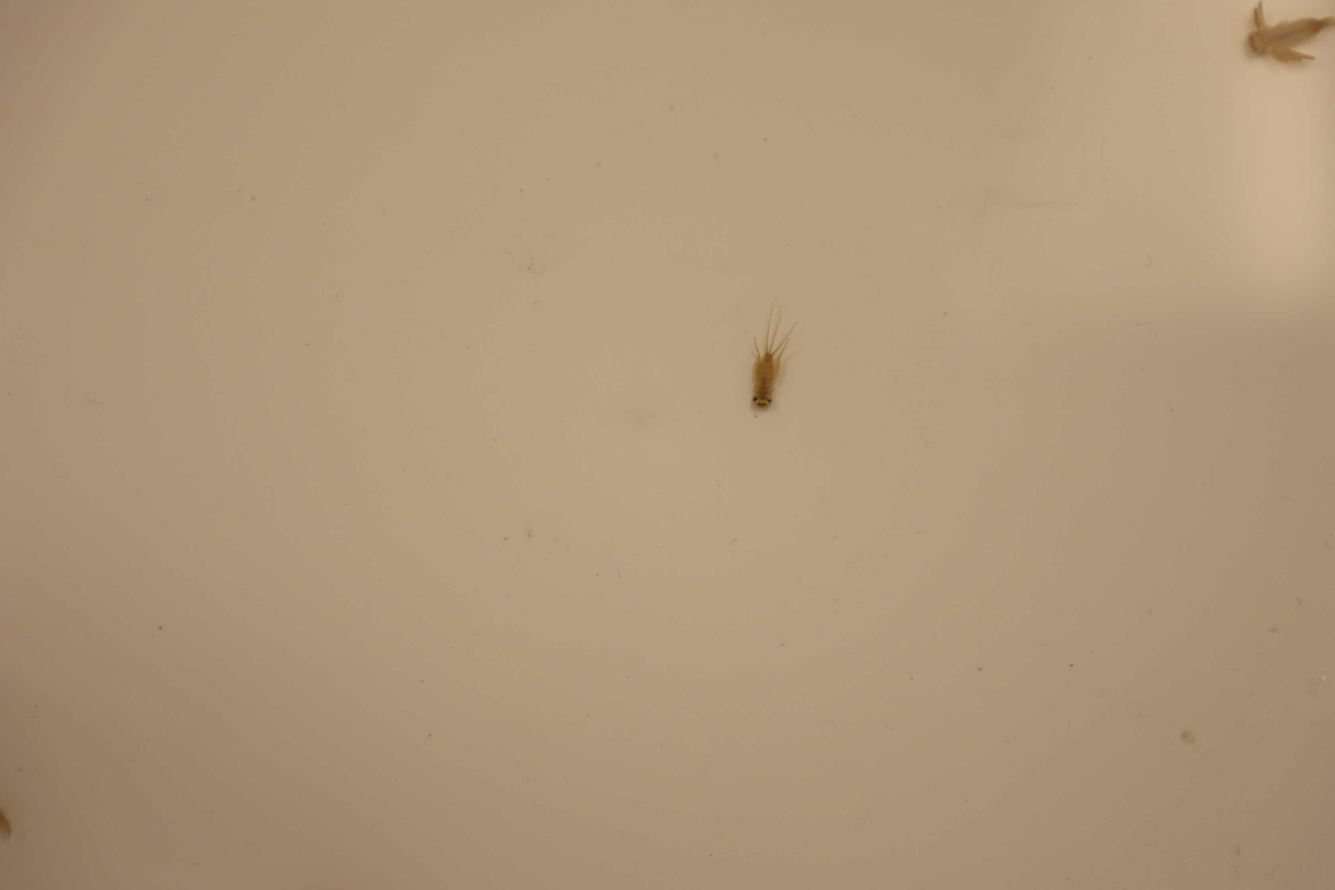Mayfly: (1240, 0, 1335, 71), (739, 303, 798, 413)
